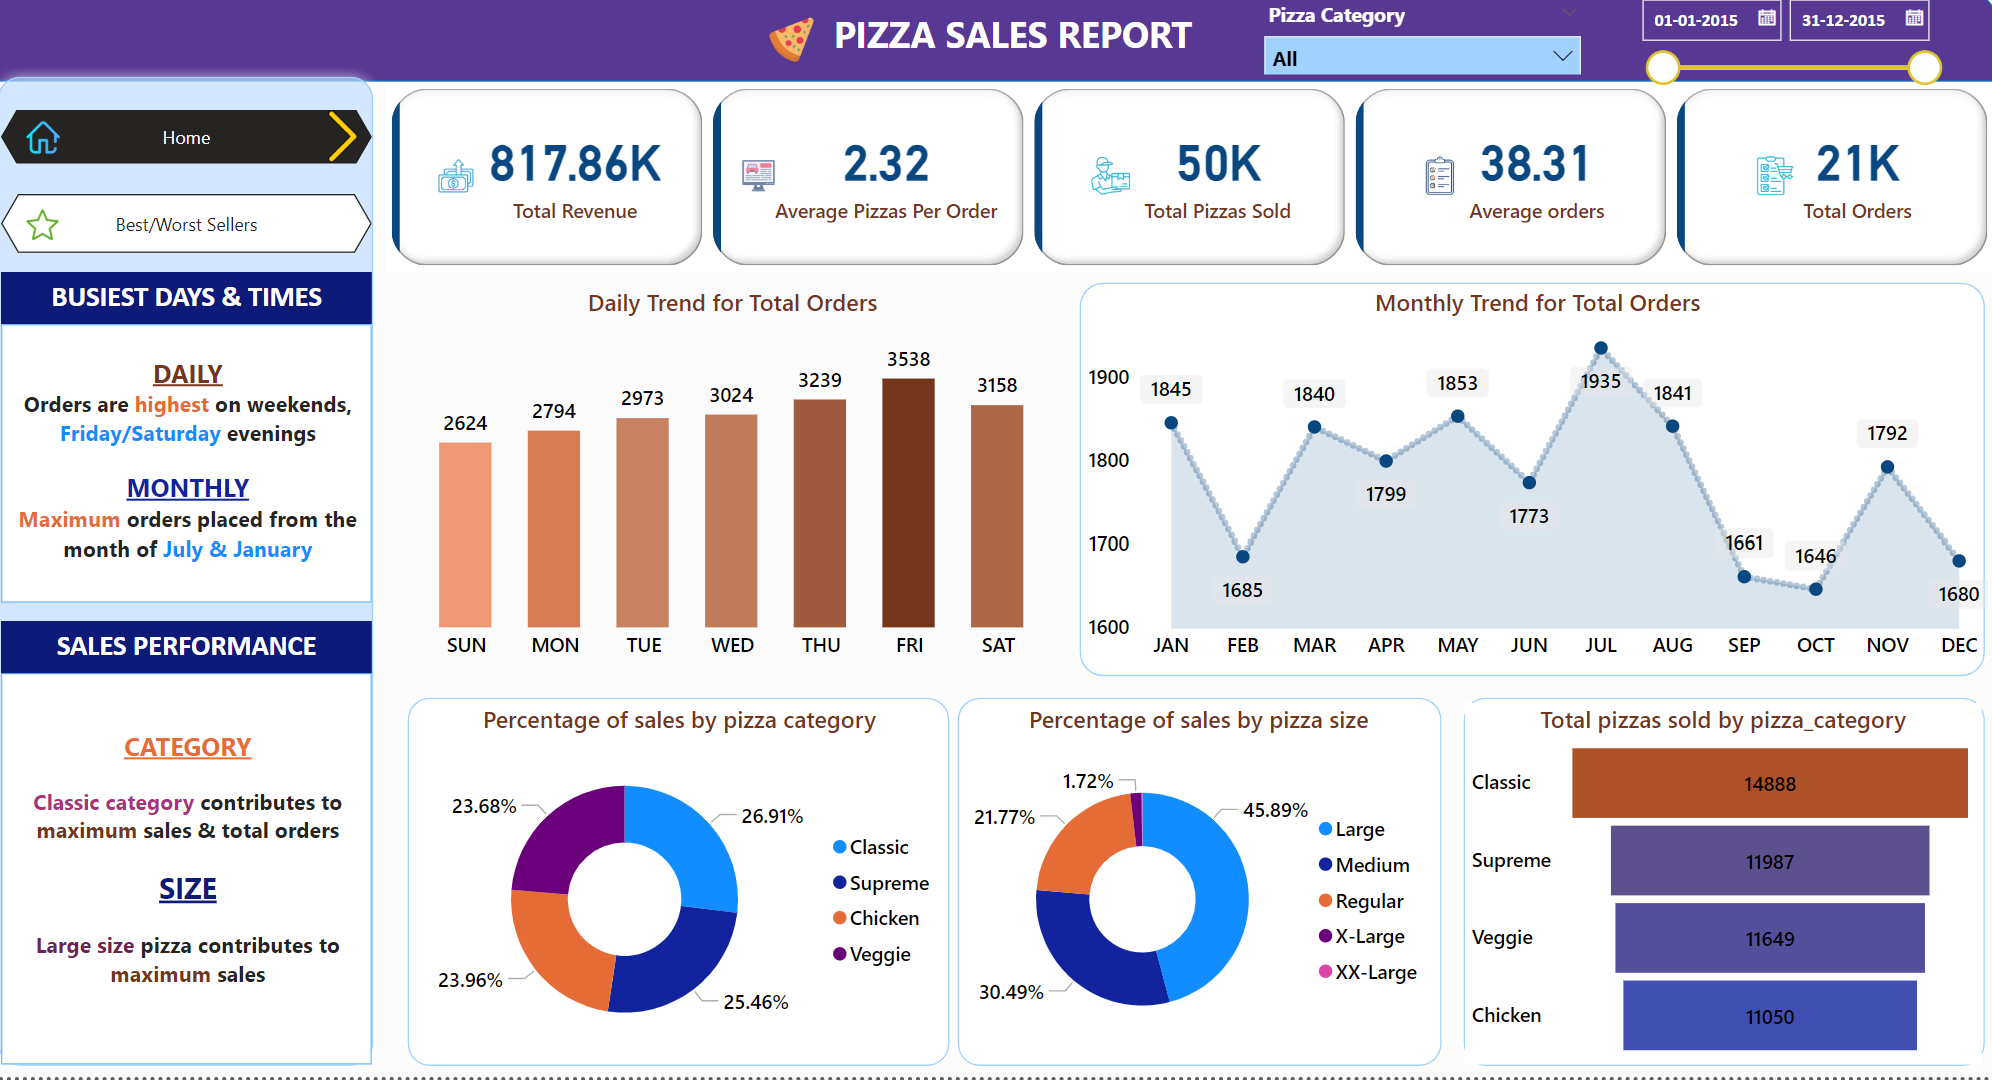

Layout of this report page (visuals, bound fields, positions):
{"tool":"powerbi","page":{"name":"Home","canvas":[1500,820],"ordinal":0},"visuals":[{"type":"shape","box":[0,12.5,1499.9,65.5],"z":0},{"type":"shape","box":[0,65.9,296.5,754.1],"z":1000},{"type":"cardVisual","fields":{"Data":["pizza_sales.Total Revenue","pizza_sales.Average Pizzas Per Order","pizza_sales.Total Pizzas Sold","pizza_sales.Average orders","pizza_sales.Total Orders"]},"box":[296.6,78,1203.3,142.1],"z":2000},{"type":"textbox","box":[628.1,18.1,303.6,54.3],"z":3000},{"type":"image","box":[557.1,23.7,87.7,44.6],"z":4000},{"type":"columnChart","title":"Daily Trend for Total Orders","fields":{"Category":["pizza_sales.Order Day"],"Y":["pizza_sales.Total Orders"]},"box":[306.4,229.8,501.4,288.3],"z":5000},{"type":"shape","box":[807.7,220,692.2,309.2],"z":6000},{"type":"areaChart","title":"Monthly Trend for Total Orders","fields":{"Category":["pizza_sales.Month "],"Y":["pizza_sales.Total Orders"]},"box":[817.5,229.8,682.4,288.3],"z":7000},{"type":"shape","box":[306.4,529.2,420.6,291.1],"z":8000},{"type":"shape","box":[717.2,529.2,377.4,291.1],"z":9000},{"type":"shape","box":[1094.6,529.2,405.3,291.1],"z":10000},{"type":"donutChart","title":"Percentage of sales by pizza category","fields":{"Category":["pizza_sales.pizza_category"],"Y":["pizza_sales.Total Revenue"]},"box":[316.1,540.4,401.1,270.2],"z":11000},{"type":"donutChart","title":"Percentage of sales by pizza size","fields":{"Category":["pizza_sales.pizza_size"],"Y":["pizza_sales.Total Revenue"]},"box":[727,540.4,355.1,270.2],"z":12000},{"type":"funnel","title":"Total pizzas sold by pizza_category","fields":{"Category":["pizza_sales.pizza_category"],"Y":["pizza_sales.Total Pizzas Sold"]},"box":[1104.4,540.4,385.8,270.2],"z":13000},{"type":"textbox","box":[9.7,220,277.1,39],"z":14000},{"type":"textbox","box":[9.7,259,277.1,207.5],"z":15000},{"type":"textbox","box":[11.1,518.1,277.1,292.5],"z":16000},{"type":"textbox","box":[9.7,479.1,277.1,39],"z":17000},{"type":"slicer","fields":{"Values":["pizza_sales.order_date"]},"box":[1224.2,5.6,245.1,75.2],"z":18000},{"type":"slicer","fields":{"Values":["pizza_sales.pizza_category"]},"box":[944.2,12.5,256.3,59.9],"z":19000},{"type":"pageNavigator","box":[9.7,98.9,277.1,40.4],"z":20000},{"type":"pageNavigator","box":[9.7,161.5,277.1,44.6],"z":21000},{"type":"image","box":[225.6,94.7,80.8,48.7],"z":22000},{"type":"image","box":[11.1,101.7,62.7,34.8],"z":23000},{"type":"image","box":[11.1,167.1,62,34],"z":24000}]}

Visuals, with their boxes in screenshot pixels (x1, y1, x2, y2), scaled from the page's 1500x820 canvas onto the 1992x1080 screenshot:
shape: [left=0, top=16, right=1991, bottom=103]
shape: [left=0, top=87, right=394, bottom=1079]
cardVisual - pizza_sales.Total Revenue x pizza_sales.Average Pizzas Per Order: [left=394, top=103, right=1991, bottom=290]
textbox: [left=834, top=24, right=1237, bottom=95]
image: [left=740, top=31, right=856, bottom=90]
"Daily Trend for Total Orders" columnChart: [left=407, top=303, right=1073, bottom=682]
shape: [left=1073, top=290, right=1991, bottom=697]
"Monthly Trend for Total Orders" areaChart: [left=1086, top=303, right=1991, bottom=682]
shape: [left=407, top=697, right=965, bottom=1079]
shape: [left=952, top=697, right=1454, bottom=1079]
shape: [left=1454, top=697, right=1991, bottom=1079]
"Percentage of sales by pizza category" donutChart: [left=420, top=712, right=952, bottom=1068]
"Percentage of sales by pizza size" donutChart: [left=965, top=712, right=1437, bottom=1068]
"Total pizzas sold by pizza_category" funnel: [left=1467, top=712, right=1979, bottom=1068]
textbox: [left=13, top=290, right=381, bottom=341]
textbox: [left=13, top=341, right=381, bottom=614]
textbox: [left=15, top=682, right=383, bottom=1068]
textbox: [left=13, top=631, right=381, bottom=682]
slicer - pizza_sales.order_date: [left=1626, top=7, right=1951, bottom=106]
slicer - pizza_sales.pizza_category: [left=1254, top=16, right=1594, bottom=95]
pageNavigator: [left=13, top=130, right=381, bottom=183]
pageNavigator: [left=13, top=213, right=381, bottom=271]
image: [left=300, top=125, right=407, bottom=189]
image: [left=15, top=134, right=98, bottom=180]
image: [left=15, top=220, right=97, bottom=265]
